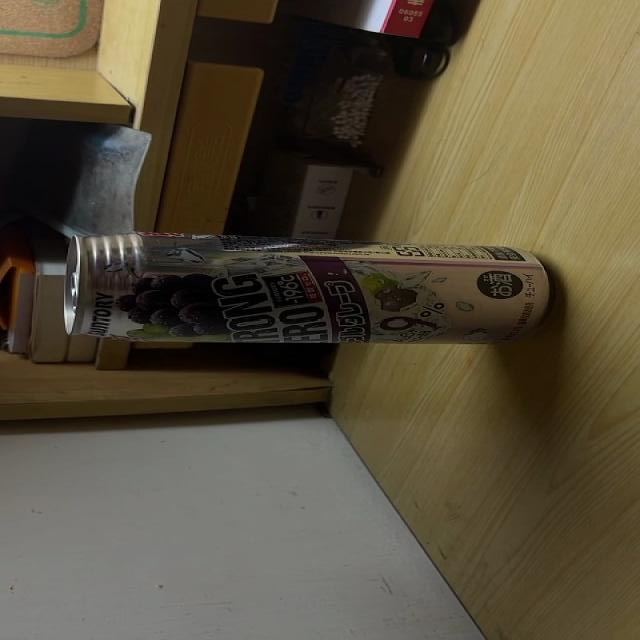Liquor: (63, 232, 554, 343)
